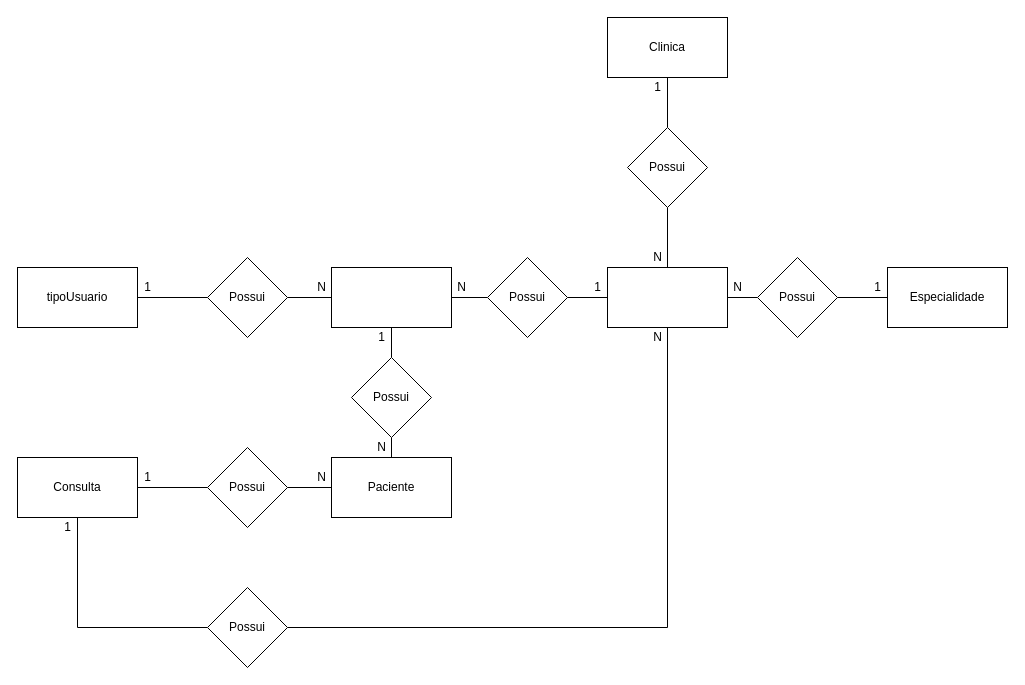
This 1025x685 diagram has some shape labels left out. The centre of each missing label's shape, as x and y in pixels:
Medico: the point at 667,297
Usuario: the point at 391,297
